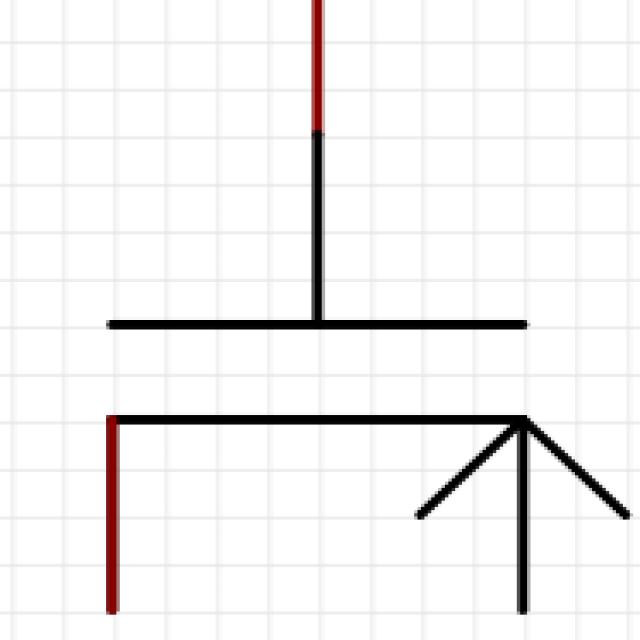pmos: (54, 12, 633, 640)
